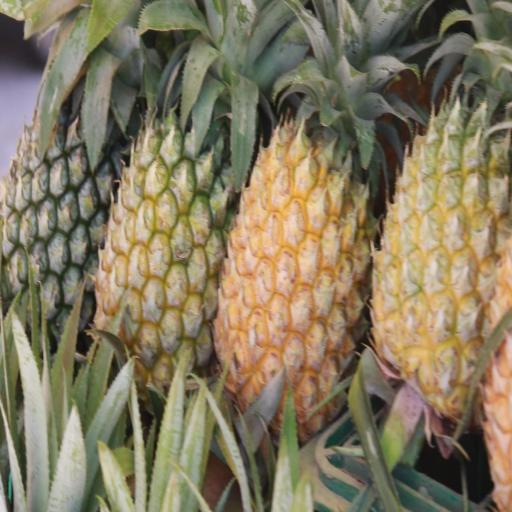------------------------------: (89, 11, 247, 394)
Pineapple - v8 v1: (210, 3, 375, 443), (368, 8, 512, 434)
